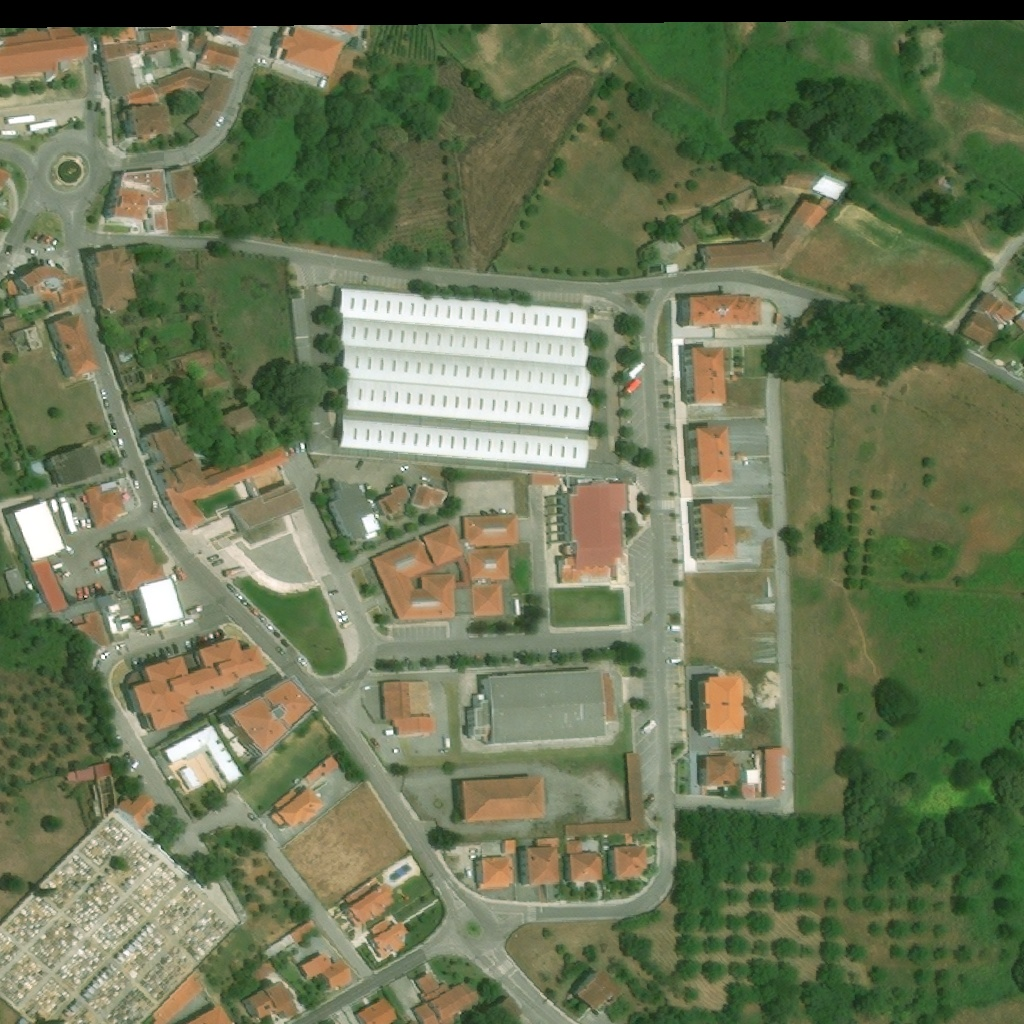0 no-damage: (136, 425, 291, 531), (336, 285, 592, 339), (129, 636, 268, 732), (342, 378, 592, 430), (343, 346, 592, 398), (337, 420, 589, 470), (340, 317, 592, 366), (464, 667, 606, 747), (697, 196, 829, 269), (218, 675, 318, 762), (555, 482, 630, 587), (370, 536, 456, 619), (564, 752, 646, 836), (0, 27, 90, 83), (163, 723, 245, 784), (106, 166, 178, 234), (226, 480, 305, 533), (83, 243, 140, 316), (456, 776, 547, 821), (5, 500, 68, 565), (103, 530, 167, 591), (270, 25, 346, 75), (411, 971, 480, 1023), (14, 265, 87, 313), (47, 312, 100, 378), (328, 480, 383, 543), (379, 679, 437, 738), (185, 73, 236, 140), (685, 425, 734, 487), (698, 675, 745, 737), (122, 86, 172, 144), (343, 876, 397, 929), (680, 294, 761, 329), (134, 575, 187, 627), (691, 501, 737, 560), (151, 972, 203, 1023), (178, 350, 232, 398), (742, 747, 789, 799), (187, 32, 240, 78), (684, 346, 726, 404), (47, 444, 105, 486), (573, 967, 626, 1011), (242, 980, 300, 1020), (270, 786, 325, 828), (26, 557, 68, 612), (260, 919, 316, 960), (82, 479, 127, 530), (297, 952, 354, 991), (476, 839, 517, 891), (519, 837, 561, 887), (463, 513, 519, 548), (153, 67, 213, 99), (368, 918, 409, 962), (115, 792, 158, 833), (423, 524, 464, 566), (564, 838, 602, 883), (101, 598, 138, 643), (972, 292, 1019, 326), (100, 22, 139, 62), (102, 57, 137, 99), (71, 610, 110, 646), (609, 845, 648, 880), (219, 404, 258, 439), (468, 547, 511, 578), (960, 312, 999, 346), (209, 19, 256, 47), (375, 481, 411, 517), (698, 755, 738, 786), (471, 583, 506, 617), (305, 754, 341, 786), (9, 322, 45, 354), (356, 997, 399, 1023), (808, 173, 847, 201), (167, 163, 199, 197), (411, 485, 449, 513), (138, 29, 177, 54), (66, 761, 111, 782), (187, 1004, 234, 1023), (496, 995, 523, 1019), (4, 566, 25, 596), (675, 223, 698, 248), (178, 766, 201, 790), (145, 51, 172, 70), (15, 292, 42, 309), (0, 313, 24, 331), (529, 474, 559, 488), (8, 279, 17, 294), (666, 264, 678, 273)
4 un-classified: (988, 310, 1023, 372), (306, 18, 363, 35), (0, 168, 13, 192), (1014, 289, 1023, 304)
